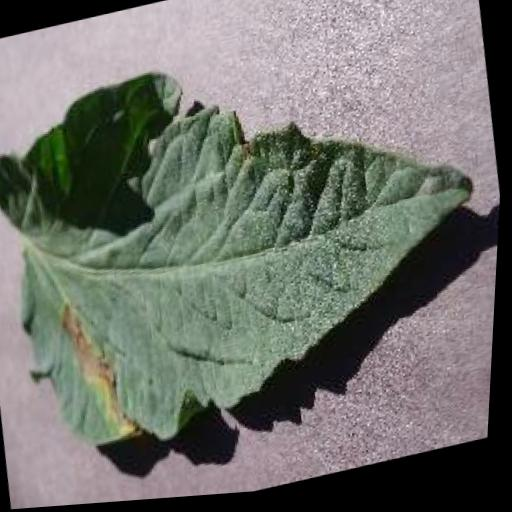Early Blight: (0, 4, 511, 474)
